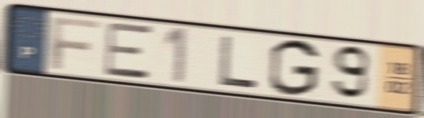1: (160, 25, 189, 86)
9: (327, 44, 373, 104)
E: (102, 21, 154, 81)
F: (49, 15, 102, 72)
G: (267, 37, 322, 99)
L: (217, 34, 261, 91)
